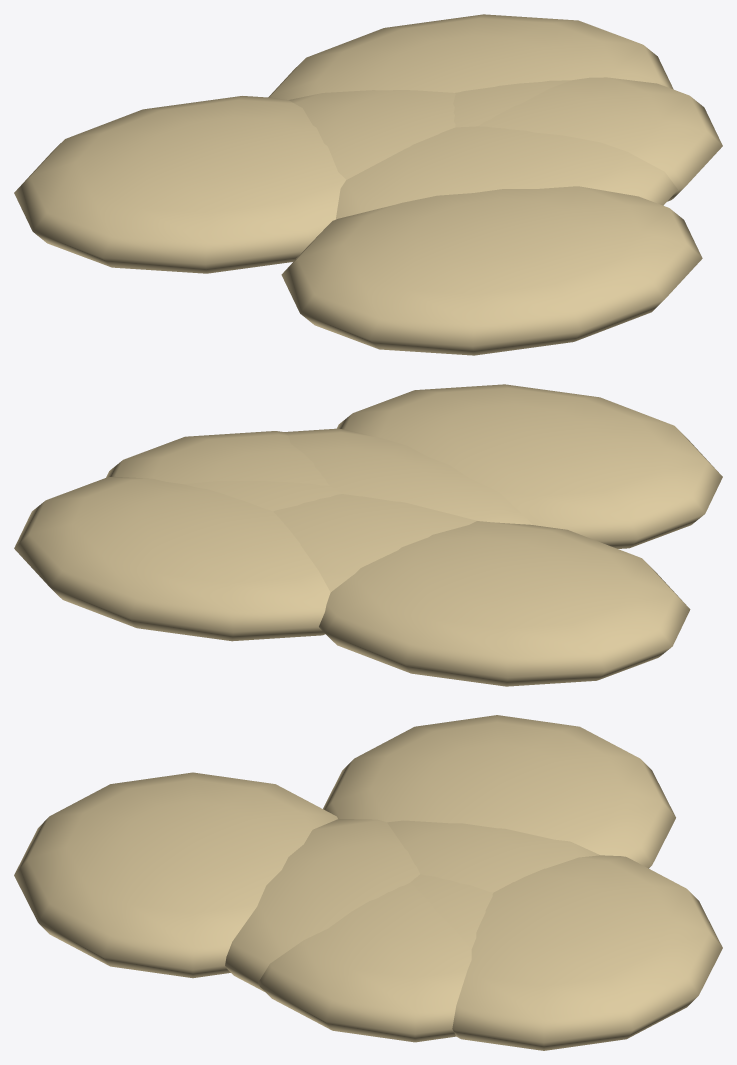
Rendered from beach-sand.glb.
3 views of the same model, one above another, from view 1: azimuth 30°, elevation 25°; view 2: azimuth 150°, elevation 25°; view 3: azimuth 270°, elevation 25° (orthographic). The views are drawn at different scales.
Visible parts, largest first — view 1: beach-sand; view 2: beach-sand; view 3: beach-sand.
Part boxes in pixels (box(x1,y1,x2,y2)): beach-sand: box(14, 14, 722, 355); beach-sand: box(14, 384, 722, 686); beach-sand: box(14, 715, 722, 1050).
Bounding box in the file's own units: 1.18 × 0.14 × 1.11.
